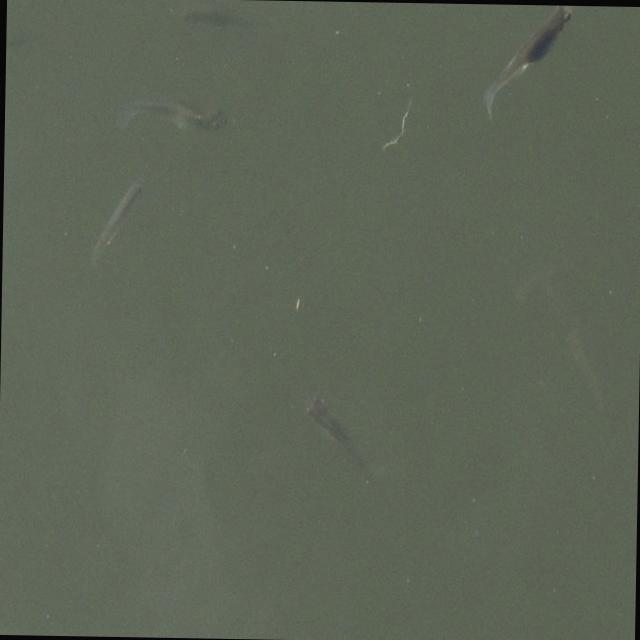Sivrisinek Baligi: (480, 3, 574, 126), (298, 384, 376, 480), (117, 79, 229, 137), (90, 172, 144, 262)
